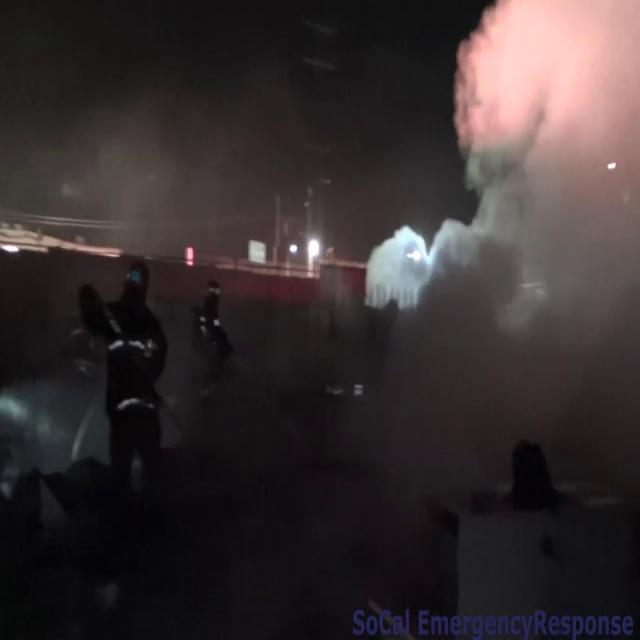Smoke: (411, 1, 640, 627)
